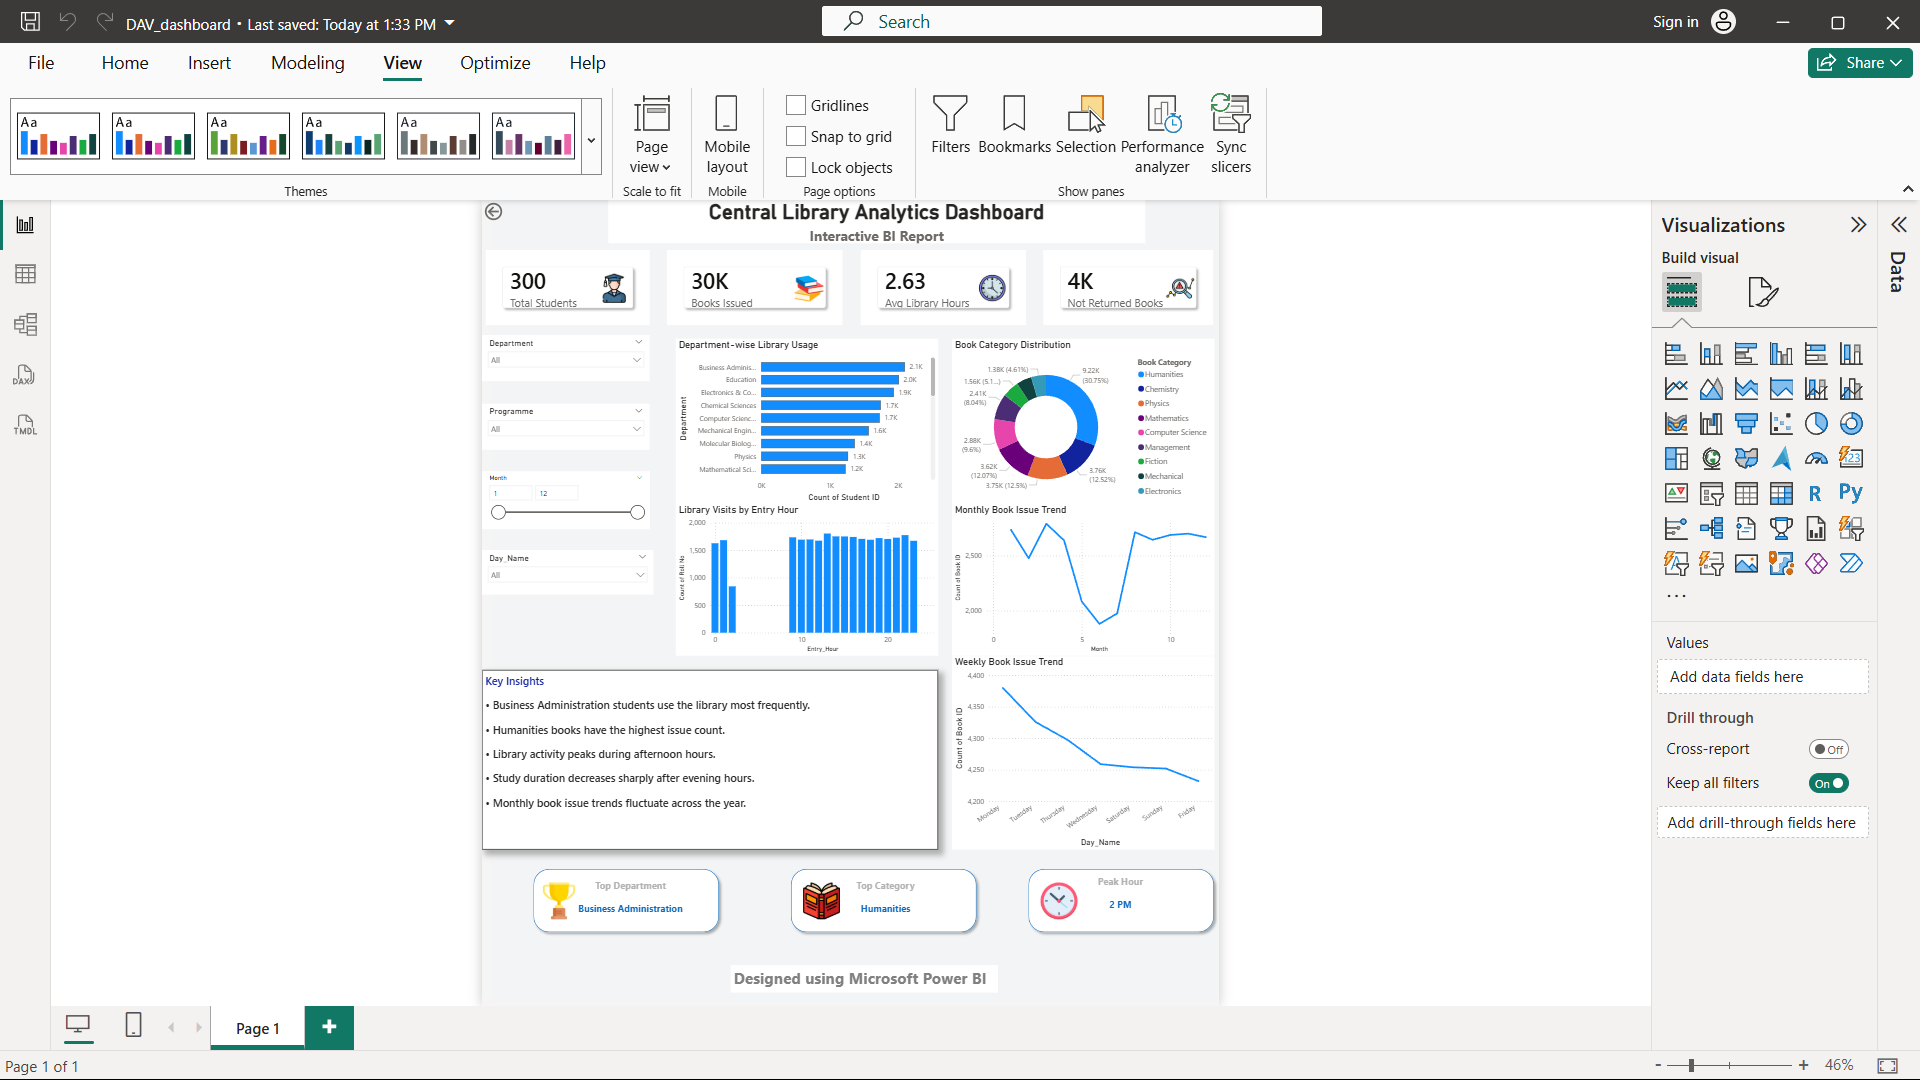

The page's visual inventory and layout, read from the dashboard file:
{"tool":"powerbi","page":{"name":"Page 1","canvas":[1280,1400],"ordinal":0},"visuals":[{"type":"shape","box":[16,0,1264,1392],"z":0},{"type":"shape","box":[80,1152,340.3,128],"z":0,"group":"g1"},{"type":"shape","box":[527.8,1152,340.3,128],"z":0,"group":"g1"},{"type":"shape","box":[939.7,1152,340.3,128],"z":0,"group":"g1"},{"type":"textbox","title":"Central Library Analytics Dashboard","box":[220,0,932.5,75],"z":1000},{"type":"textbox","box":[975.5,1168,268.7,80],"z":1000,"group":"g1"},{"type":"textbox","box":[123,1173.6,268.7,80],"z":1000,"group":"g1"},{"type":"textbox","box":[567.2,1173.6,268.7,80],"z":1000,"group":"g1"},{"type":"cardVisual","fields":{"Data":["processed_library_data.Total Students"]},"box":[6.2,87.5,285,130],"z":2000},{"type":"image","box":[545.7,1184,89.6,64],"z":2000,"group":"g1"},{"type":"cardVisual","fields":{"Data":["processed_library_data.Books Issued"]},"box":[321.7,87.5,305,130],"z":3000},{"type":"cardVisual","fields":{"Data":["processed_library_data.Avg Library Hours"]},"box":[657.1,87.5,287.5,130],"z":4000},{"type":"cardVisual","fields":{"Data":["processed_library_data.Not Returned Books"]},"box":[975,87.5,295,130],"z":5000},{"type":"donutChart","title":"Book Category Distribution","fields":{"Category":["processed_library_data.Book Category"],"Y":["CountNonNull(processed_library_data.Book ID)"]},"box":[816,240,456,288],"z":6000},{"type":"clusteredBarChart","title":"Department-wise Library Usage","fields":{"Category":["processed_library_data.Department"],"Y":["CountNonNull(processed_library_data.Student ID)"]},"box":[336,240,456,288],"z":7000},{"type":"clusteredColumnChart","title":"Library Visits by Entry Hour","fields":{"Category":["processed_study_data.Entry_Hour"],"Y":["CountNonNull(processed_study_data.Roll No)"]},"box":[336,528,456,264],"z":8000},{"type":"lineChart","title":"Monthly Book Issue Trend","fields":{"Category":["processed_library_data.Month"],"Y":["CountNonNull(processed_library_data.Book ID)"]},"box":[816,528,456,264],"z":9000},{"type":"slicer","fields":{"Values":["processed_library_data.Department"]},"box":[0,235,291.2,80],"z":10000},{"type":"actionButton","box":[0,0,100,40],"z":11000},{"type":"slicer","fields":{"Values":["processed_library_data.Programme"]},"box":[0,352.9,291.2,80],"z":12000},{"type":"slicer","fields":{"Values":["processed_library_data.Month"]},"box":[0,470.8,291.2,100],"z":13000},{"type":"slicer","fields":{"Values":["processed_library_data.Day_Name"]},"box":[0,608.7,297.5,77.5],"z":14000},{"type":"image","box":[200,127.1,60,50],"z":15000},{"type":"image","box":[542.9,125.7,50,55.7],"z":16000},{"type":"image","box":[862.9,122.9,48.6,58.6],"z":17000},{"type":"image","box":[1188.6,121.4,50,64.3],"z":18000},{"type":"textbox","box":[0,816,792,312],"z":19000},{"type":"lineChart","title":"Weekly Book Issue Trend","fields":{"Category":["processed_library_data.Day_Name"],"Y":["CountNonNull(processed_library_data.Book ID)"]},"box":[816,792,456,336],"z":20000},{"type":"group","id":"g1","title":"Group 1","box":[80,1152,1200,128],"z":21000},{"type":"textbox","box":[432,1328,464,48],"z":21001},{"type":"image","box":[80,1184,107.5,64],"z":24000,"group":"g1"},{"type":"image","box":[957.6,1184,89.6,64],"z":25000,"group":"g1"}]}

Visuals, with their boxes on the page's 1280x1400 design canvas (x1, y1, x2, y2). These are canvas units, not pixel positions in the 1920x1080 screenshot, which may show the page scaled, cropped or inside an application window:
shape: {"x1": 16, "y1": 0, "x2": 1280, "y2": 1392}
shape: {"x1": 80, "y1": 1152, "x2": 420, "y2": 1280}
shape: {"x1": 528, "y1": 1152, "x2": 868, "y2": 1280}
shape: {"x1": 940, "y1": 1152, "x2": 1280, "y2": 1280}
"Central Library Analytics Dashboard" textbox: {"x1": 220, "y1": 0, "x2": 1152, "y2": 75}
textbox: {"x1": 976, "y1": 1168, "x2": 1244, "y2": 1248}
textbox: {"x1": 123, "y1": 1174, "x2": 392, "y2": 1254}
textbox: {"x1": 567, "y1": 1174, "x2": 836, "y2": 1254}
cardVisual - processed_library_data.Total Students: {"x1": 6, "y1": 88, "x2": 291, "y2": 218}
image: {"x1": 546, "y1": 1184, "x2": 635, "y2": 1248}
cardVisual - processed_library_data.Books Issued: {"x1": 322, "y1": 88, "x2": 627, "y2": 218}
cardVisual - processed_library_data.Avg Library Hours: {"x1": 657, "y1": 88, "x2": 945, "y2": 218}
cardVisual - processed_library_data.Not Returned Books: {"x1": 975, "y1": 88, "x2": 1270, "y2": 218}
"Book Category Distribution" donutChart: {"x1": 816, "y1": 240, "x2": 1272, "y2": 528}
"Department-wise Library Usage" clusteredBarChart: {"x1": 336, "y1": 240, "x2": 792, "y2": 528}
"Library Visits by Entry Hour" clusteredColumnChart: {"x1": 336, "y1": 528, "x2": 792, "y2": 792}
"Monthly Book Issue Trend" lineChart: {"x1": 816, "y1": 528, "x2": 1272, "y2": 792}
slicer - processed_library_data.Department: {"x1": 0, "y1": 235, "x2": 291, "y2": 315}
actionButton: {"x1": 0, "y1": 0, "x2": 100, "y2": 40}
slicer - processed_library_data.Programme: {"x1": 0, "y1": 353, "x2": 291, "y2": 433}
slicer - processed_library_data.Month: {"x1": 0, "y1": 471, "x2": 291, "y2": 571}
slicer - processed_library_data.Day_Name: {"x1": 0, "y1": 609, "x2": 298, "y2": 686}
image: {"x1": 200, "y1": 127, "x2": 260, "y2": 177}
image: {"x1": 543, "y1": 126, "x2": 593, "y2": 181}
image: {"x1": 863, "y1": 123, "x2": 912, "y2": 182}
image: {"x1": 1189, "y1": 121, "x2": 1239, "y2": 186}
textbox: {"x1": 0, "y1": 816, "x2": 792, "y2": 1128}
"Weekly Book Issue Trend" lineChart: {"x1": 816, "y1": 792, "x2": 1272, "y2": 1128}
"Group 1" group: {"x1": 80, "y1": 1152, "x2": 1280, "y2": 1280}
textbox: {"x1": 432, "y1": 1328, "x2": 896, "y2": 1376}
image: {"x1": 80, "y1": 1184, "x2": 188, "y2": 1248}
image: {"x1": 958, "y1": 1184, "x2": 1047, "y2": 1248}
